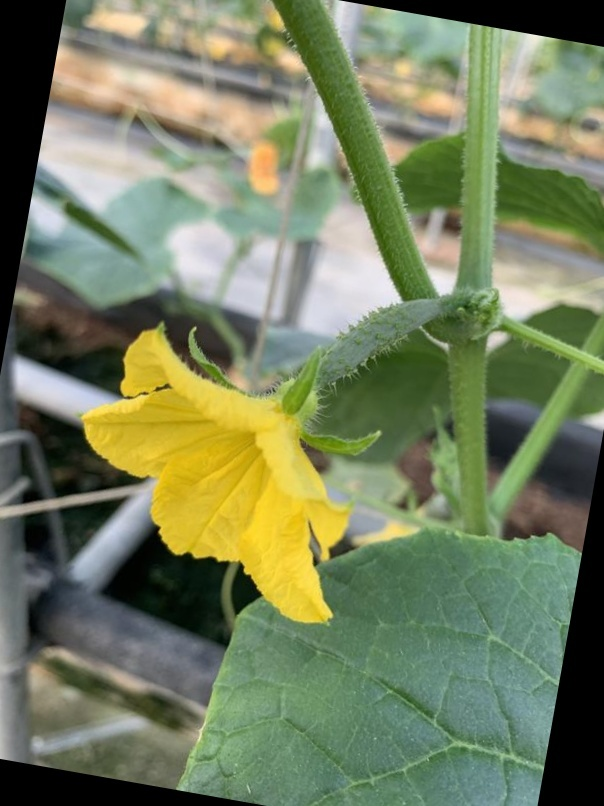flowering: (73, 246, 441, 604)
